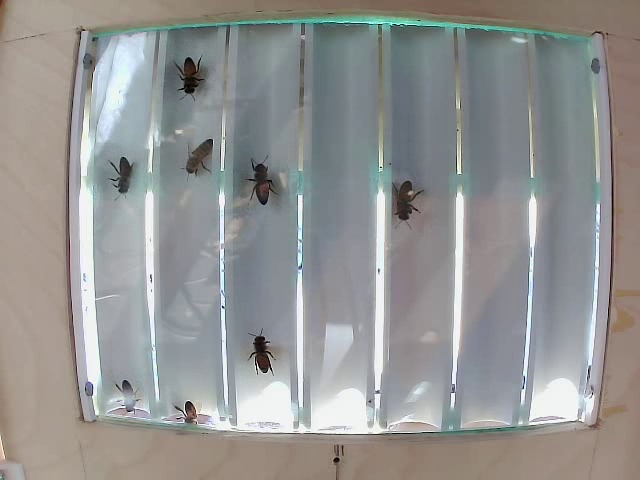bee: (99, 156, 152, 197), (244, 167, 282, 219), (173, 46, 212, 92), (385, 175, 414, 235), (180, 143, 222, 181), (250, 331, 288, 372)
